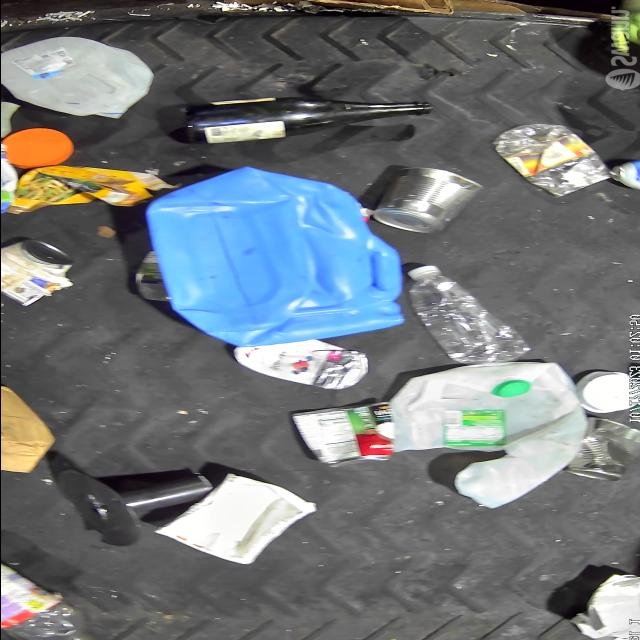can: (366, 165, 481, 232), (292, 401, 394, 468), (558, 418, 640, 482), (0, 242, 73, 306)
milk_jug: (388, 360, 586, 509), (0, 36, 154, 120)
non_white_jug: (148, 166, 400, 350), (233, 340, 367, 390)
plastic_bottle: (406, 264, 531, 362), (0, 551, 98, 640)
